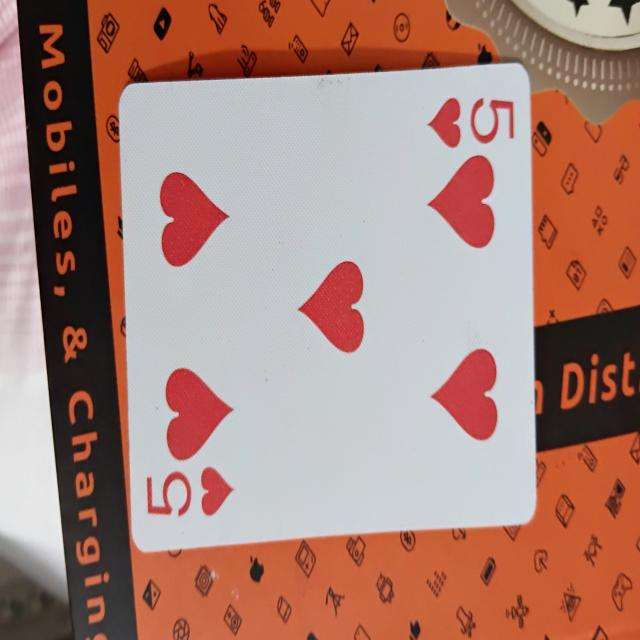5H: (128, 67, 530, 550)
